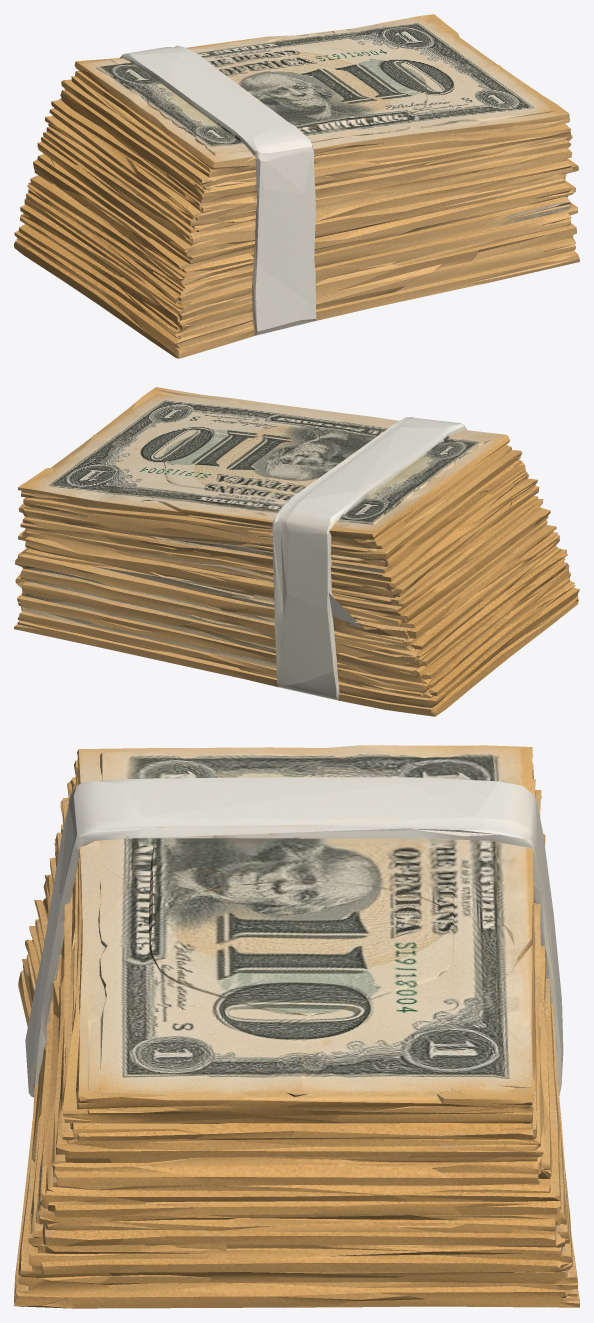
File: cash_bundle.glb
The picture shows the model from 3 angles, top to bottom: view 1: azimuth 30°, elevation 25°; view 2: azimuth 150°, elevation 25°; view 3: azimuth 270°, elevation 25°; orthographic projection. The views are drawn at different scales.
Visible parts, largest first — view 1: cash_bundle_0; view 2: cash_bundle_0; view 3: cash_bundle_0.
Boxes of the visible parts, <box> form: cash_bundle_0: <box>14,14,579,358</box>; cash_bundle_0: <box>14,387,579,716</box>; cash_bundle_0: <box>14,745,579,1308</box>.
Size of the model in its own units: 0.3 by 0.1186 by 0.2113.
Materials: 1 (1 with a texture image).
